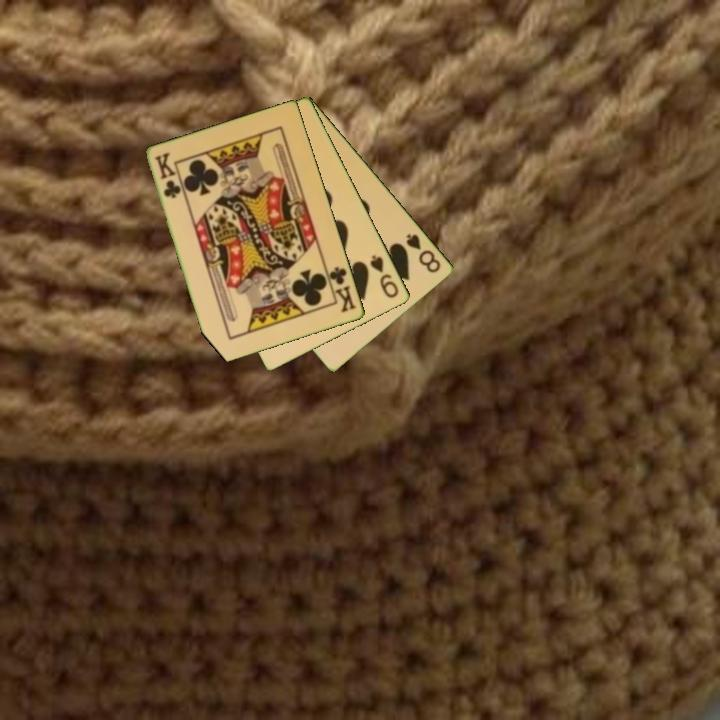8s: (403, 230, 444, 276)
9s: (367, 251, 402, 301)
Kc: (323, 263, 359, 316), (151, 149, 184, 202)
